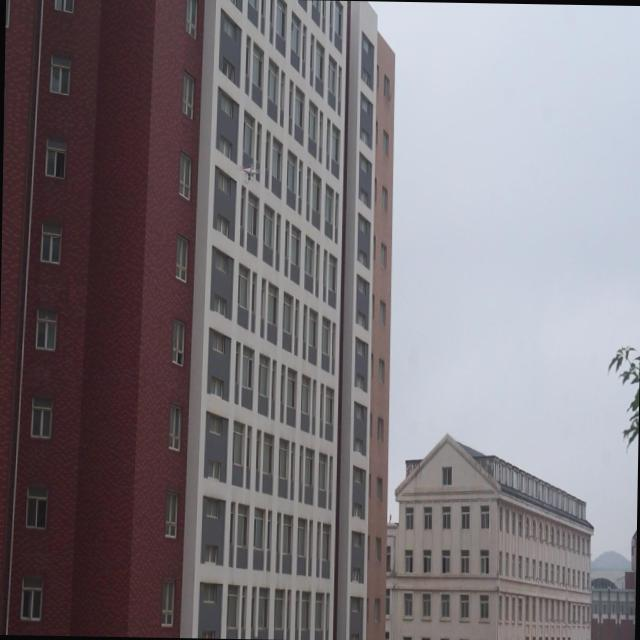drone: (238, 160, 262, 184)
